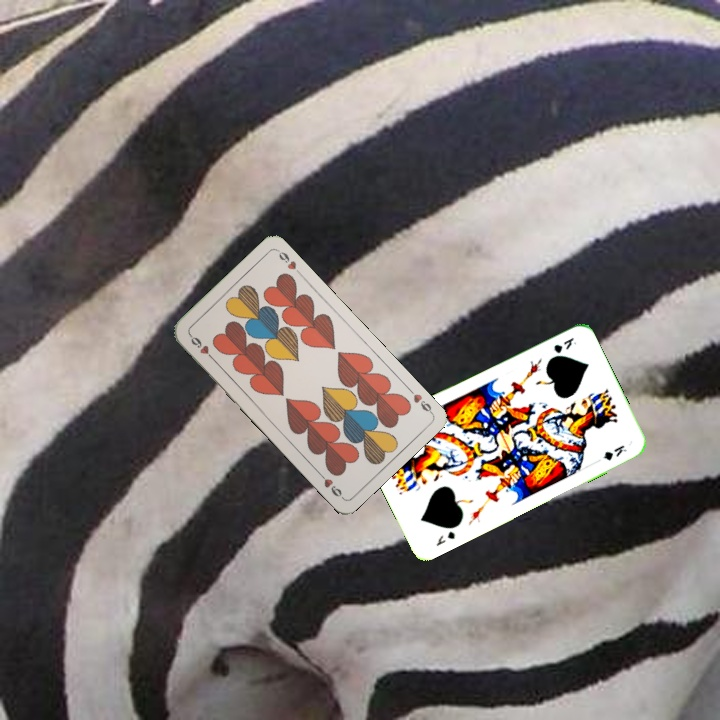GK: (550, 333, 579, 356), (432, 527, 458, 549)
H9: (185, 330, 217, 363), (404, 383, 435, 416)
